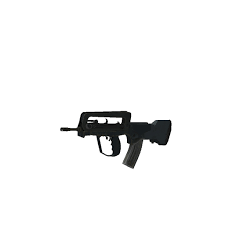gun: (59, 109, 172, 169)
